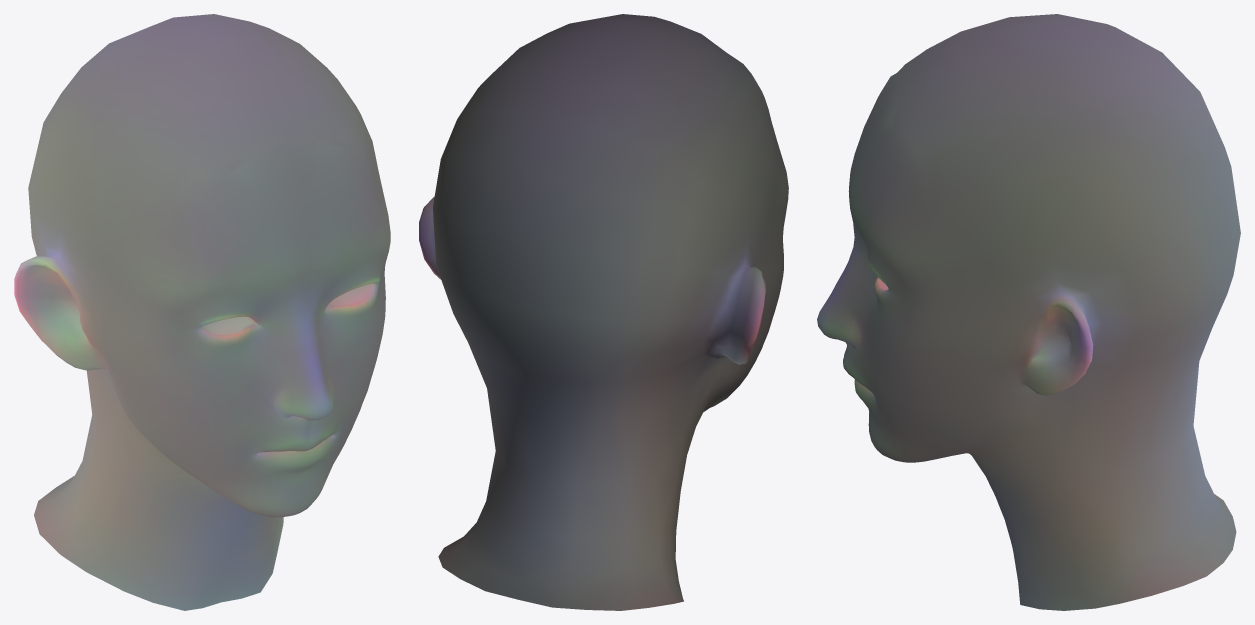
Rendered from Head.fbx.
The picture shows the model from 3 angles, left to right: view 1: azimuth 30°, elevation 25°; view 2: azimuth 150°, elevation 25°; view 3: azimuth 270°, elevation 25°; orthographic projection.
Parts seen in each view (by area): view 1: mesh_root; view 2: mesh_root; view 3: mesh_root.
Boxes of the visible parts, x1=… form: mesh_root: x1=14, y1=14, x2=390, y2=610; mesh_root: x1=419, y1=14, x2=788, y2=610; mesh_root: x1=817, y1=14, x2=1240, y2=610.
Size of the model in its own units: 1.68 by 2.58 by 1.77.
